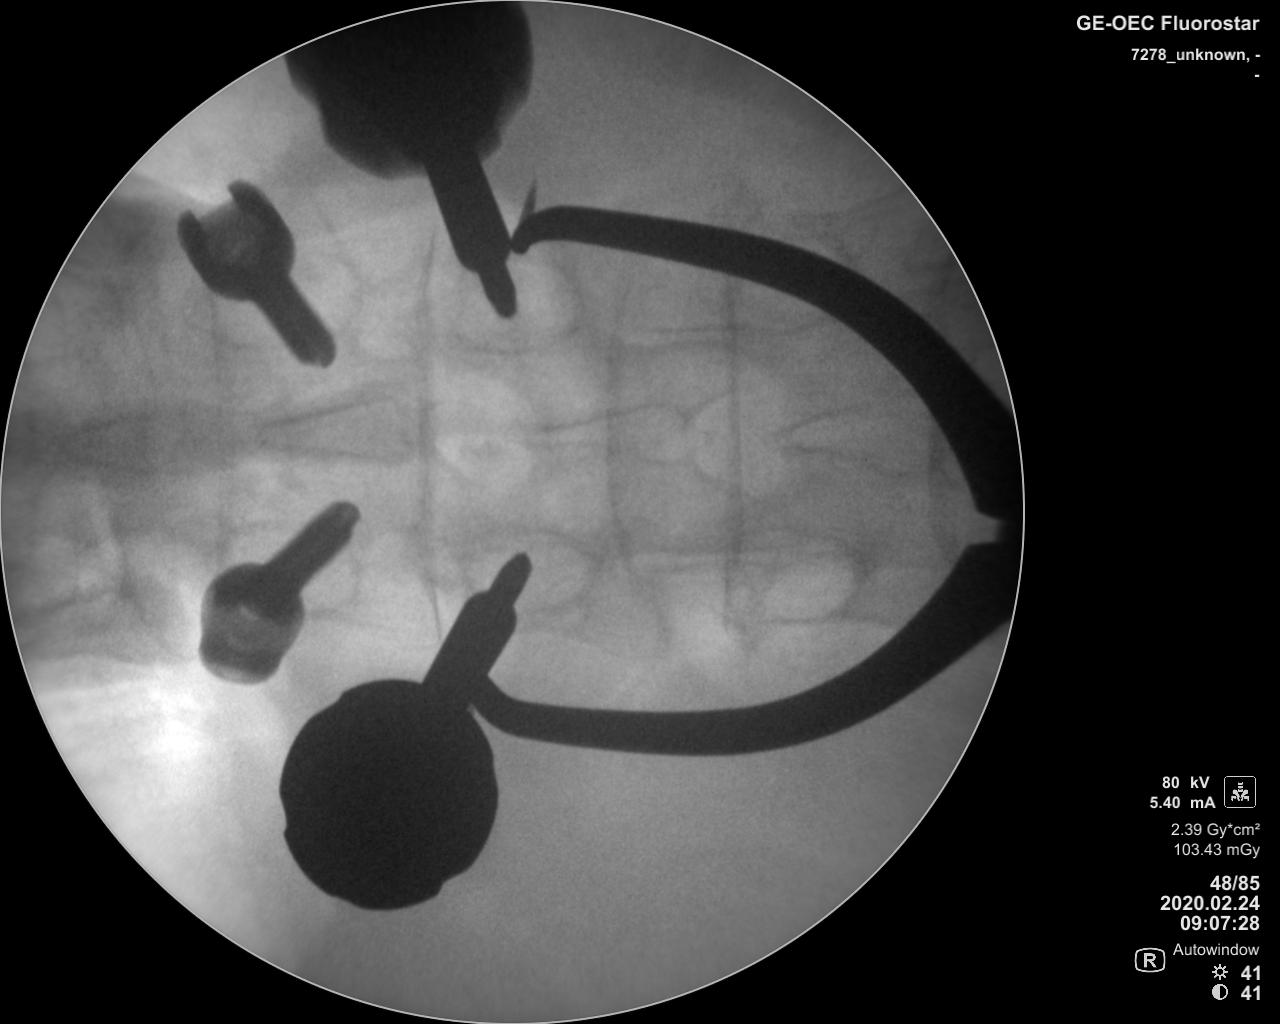eyes: (439, 261, 587, 349), (224, 253, 367, 343), (465, 522, 596, 619), (227, 525, 359, 610), (747, 536, 859, 623)
line: (413, 222, 444, 637), (606, 266, 645, 597), (195, 309, 239, 561), (716, 269, 750, 582)
nose: (47, 405, 241, 478), (515, 397, 696, 469), (251, 392, 423, 466), (779, 401, 933, 481)
